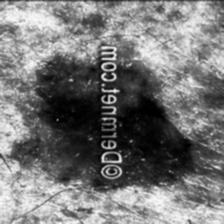Potentially Malignant Skin Tumors: (22, 60, 100, 190), (121, 65, 195, 198)
